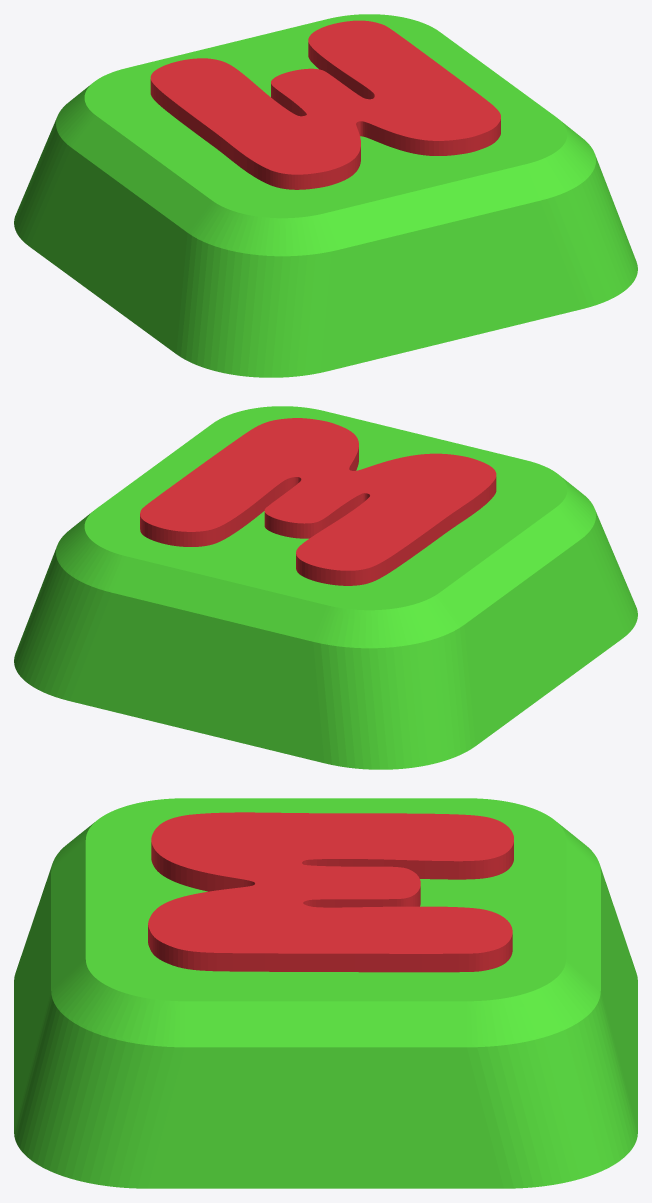
3 views of the same model, one above another, from view 1: azimuth 30°, elevation 25°; view 2: azimuth 150°, elevation 25°; view 3: azimuth 270°, elevation 25° (orthographic). The views are drawn at different scales.
Visible parts, largest first — view 1: CAPS_W, FONT_W; view 2: CAPS_W, FONT_W; view 3: CAPS_W, FONT_W.
Boxes of the visible parts, x1,y1,x2,y2 form: CAPS_W: [14, 14, 637, 377]; FONT_W: [150, 20, 500, 189]; CAPS_W: [14, 406, 637, 769]; FONT_W: [140, 418, 496, 585]; CAPS_W: [14, 798, 637, 1188]; FONT_W: [148, 812, 513, 972].
Size of the model in its own units: 18 by 5.59 by 18.
